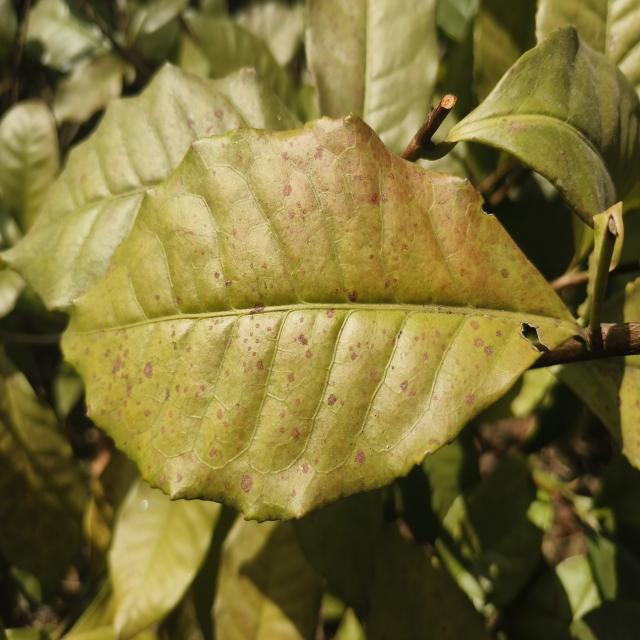Leaf: (63, 114, 581, 519), (2, 63, 300, 309), (429, 25, 640, 226), (0, 349, 87, 591), (305, 0, 438, 153), (435, 454, 553, 616), (109, 480, 222, 640), (365, 524, 488, 640), (214, 516, 321, 640), (294, 490, 383, 617), (395, 429, 480, 542), (0, 100, 59, 233), (26, 0, 111, 72), (53, 54, 136, 124)
